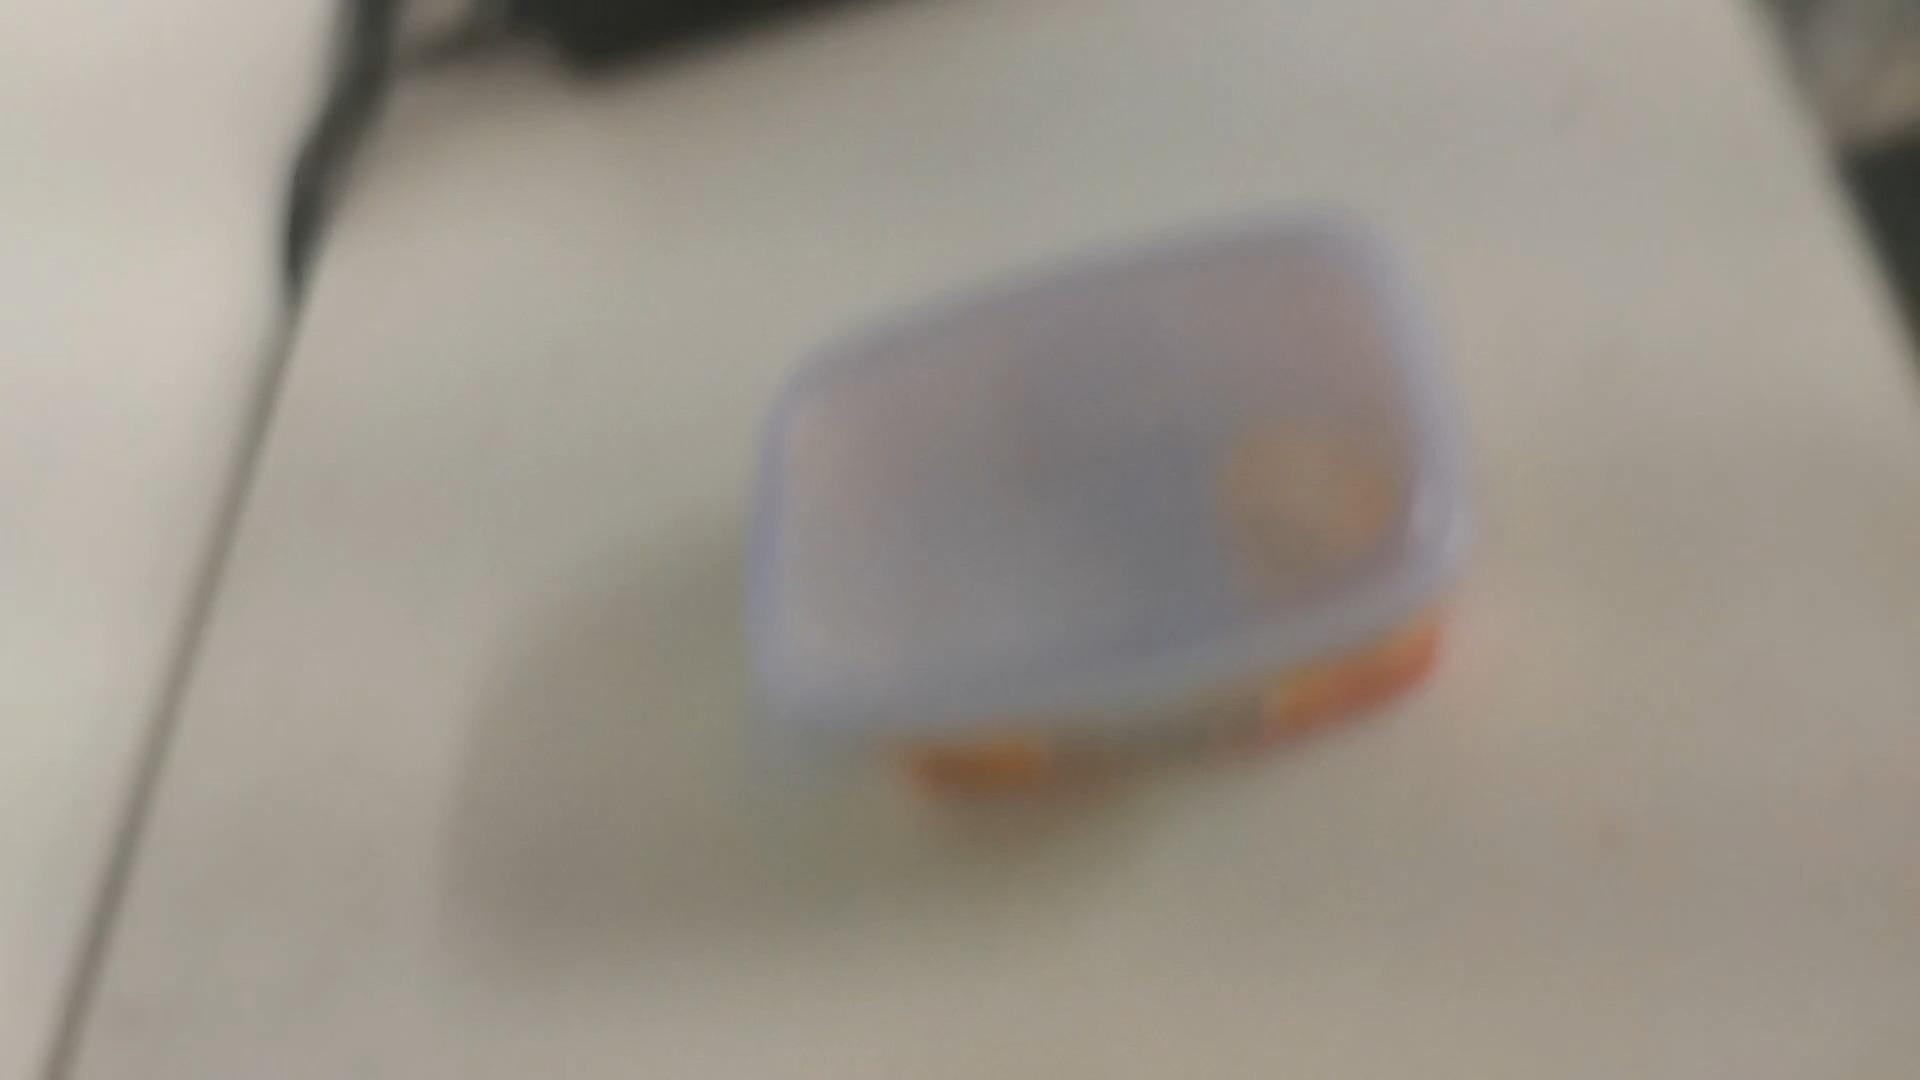butter: (740, 190, 1493, 814)
